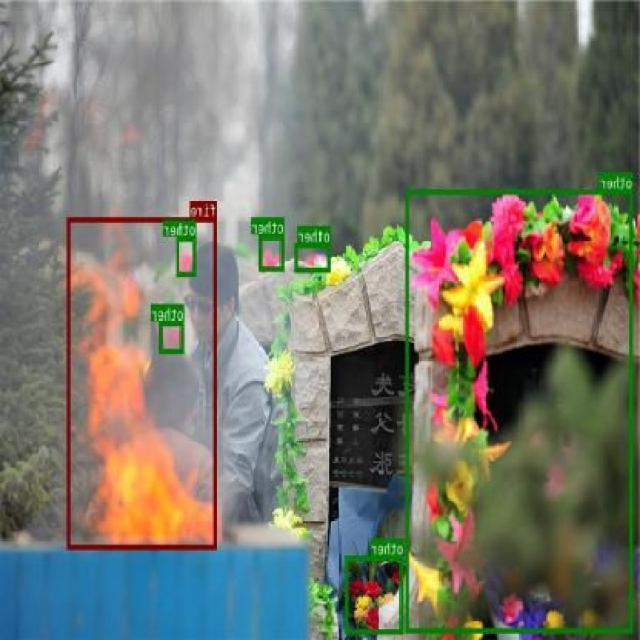Fire: (68, 217, 217, 548)
